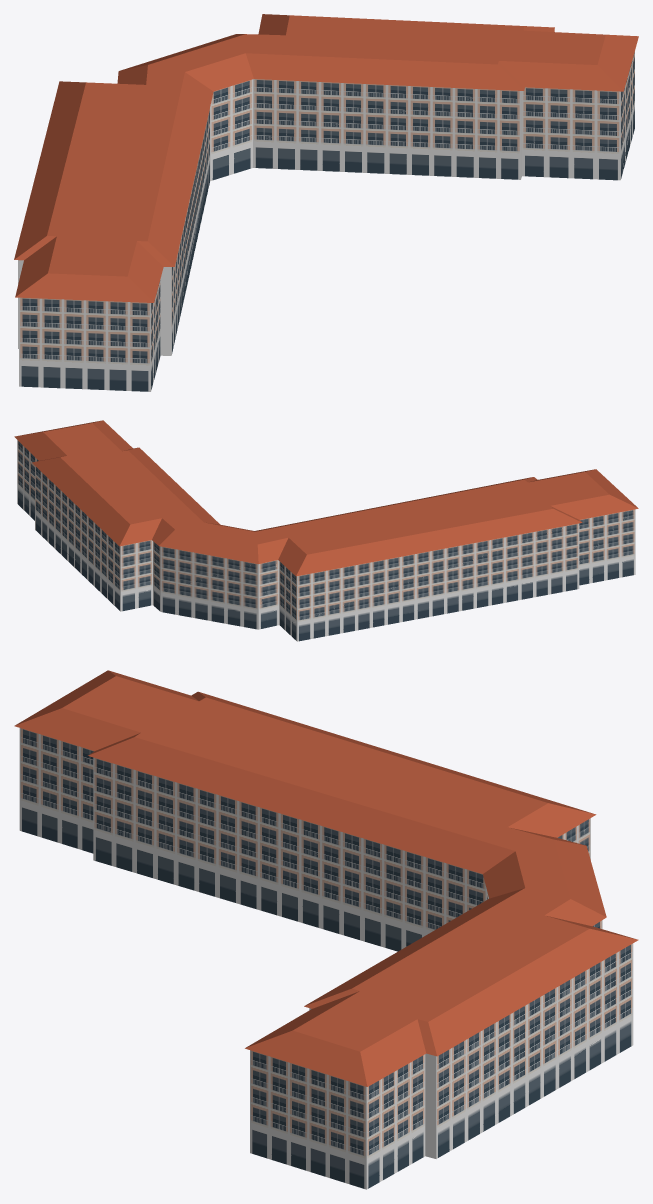
The model's file is renocean.glb.
3 renders of one model, top to bottom at view 1: azimuth 30°, elevation 25°; view 2: azimuth 150°, elevation 25°; view 3: azimuth 270°, elevation 25°, orthographic. The views are drawn at different scales.
Parts seen in each view (by area): view 1: renocean_lod0; view 2: renocean_lod0; view 3: renocean_lod0.
Part boxes in pixels (x1,y1,x2,y2): renocean_lod0: [14, 14, 638, 391]; renocean_lod0: [14, 420, 638, 641]; renocean_lod0: [14, 670, 638, 1189].
Size of what is drawn, in the model's own units: 145 by 19.39 by 91.67.
Materials: 4 (2 with a texture image).
